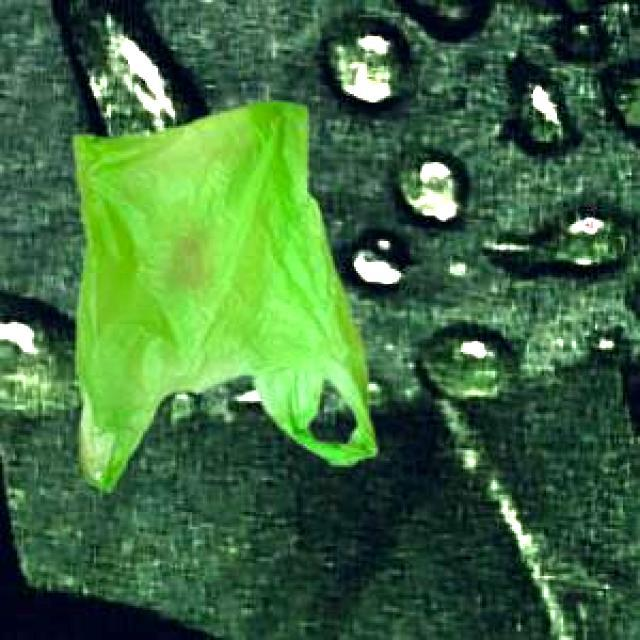Plastic_Bag: (71, 99, 372, 488)
